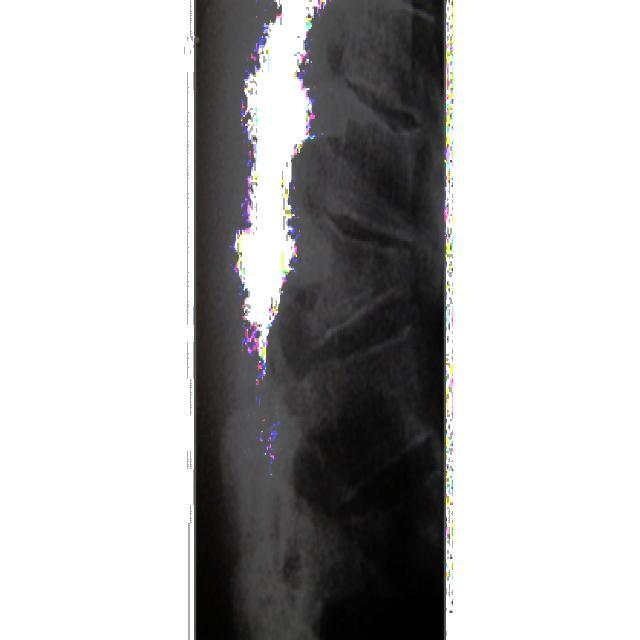Compression-Crush Fracutre: (307, 98, 422, 258)
